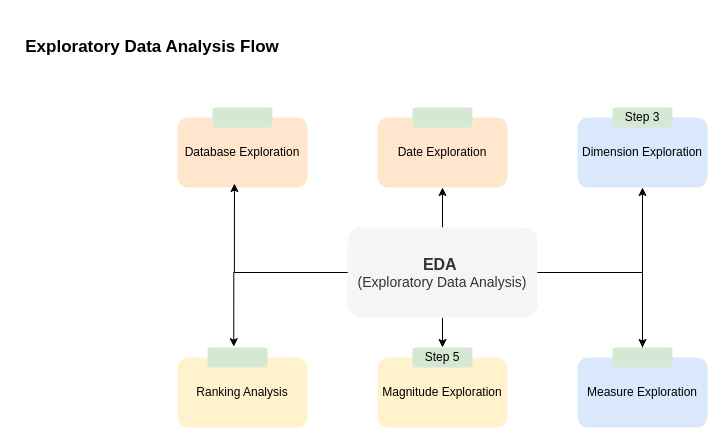
Some shapes in this 724 by 444 pixel diagram are drawn without their labels. Here are the shapes that lost their labels. From the top down, the centre of each, then its label:
At (242,117): "Step 1".
At (442,117): "Step 2".
At (237,357): "Step 6".
At (642,357): "Step 4".
